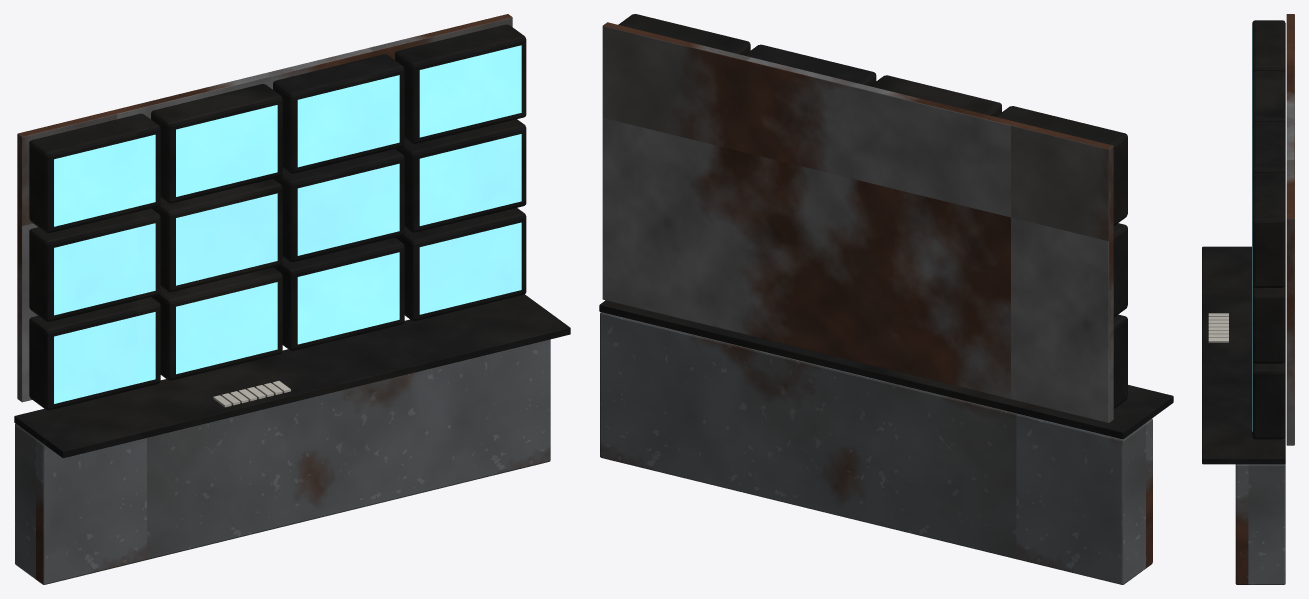
File: Y07_monitor_wall.glb
3 renders of one model, left to right at view 1: azimuth 30°, elevation 25°; view 2: azimuth 150°, elevation 25°; view 3: azimuth 270°, elevation 25°, orthographic. The views are drawn at different scales.
Visible parts, largest first — view 1: Y07_monitor_wall; view 2: Y07_monitor_wall; view 3: Y07_monitor_wall.
Part boxes in pixels (bbox=[...]): Y07_monitor_wall: bbox=[14, 14, 570, 584]; Y07_monitor_wall: bbox=[599, 14, 1173, 584]; Y07_monitor_wall: bbox=[1202, 14, 1294, 584].
Bounding box in the file's own units: 3 × 2.4 × 0.555.
5 materials, 5 textured.
